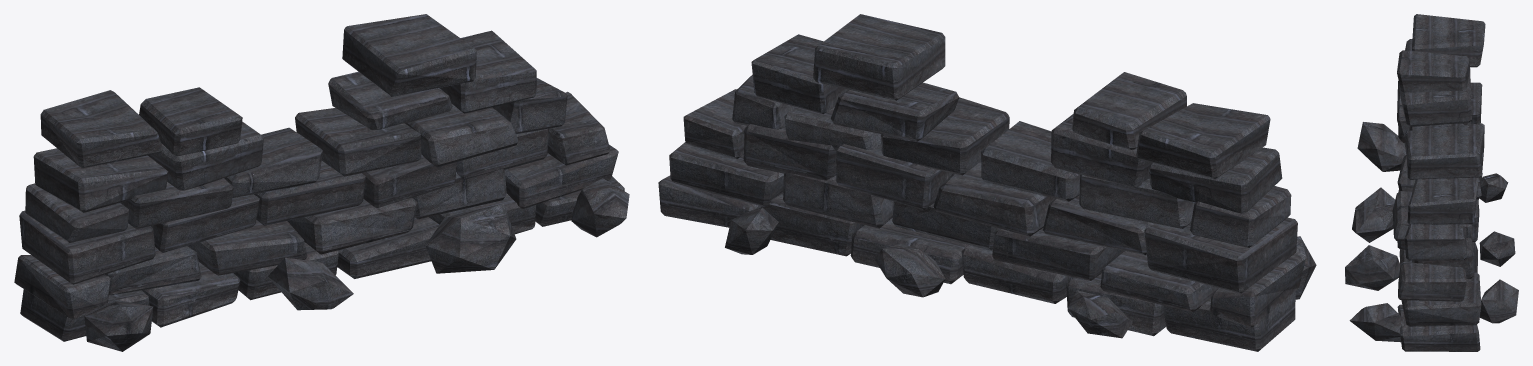
File: ruin_wall_low_b.glb
The picture shows the model from 3 angles, left to right: view 1: azimuth 30°, elevation 25°; view 2: azimuth 150°, elevation 25°; view 3: azimuth 270°, elevation 25°; orthographic projection. The views are drawn at different scales.
Parts seen in each view (by area): view 1: ruin_wall_low_b; view 2: ruin_wall_low_b; view 3: ruin_wall_low_b.
Boxes of the visible parts, x1,y1,x2,y2 form: ruin_wall_low_b: [14, 14, 629, 351]; ruin_wall_low_b: [658, 14, 1316, 351]; ruin_wall_low_b: [1345, 14, 1518, 351].
Size of the model in its own units: 4 by 1.4 by 1.43.
1 material, 1 textured.
